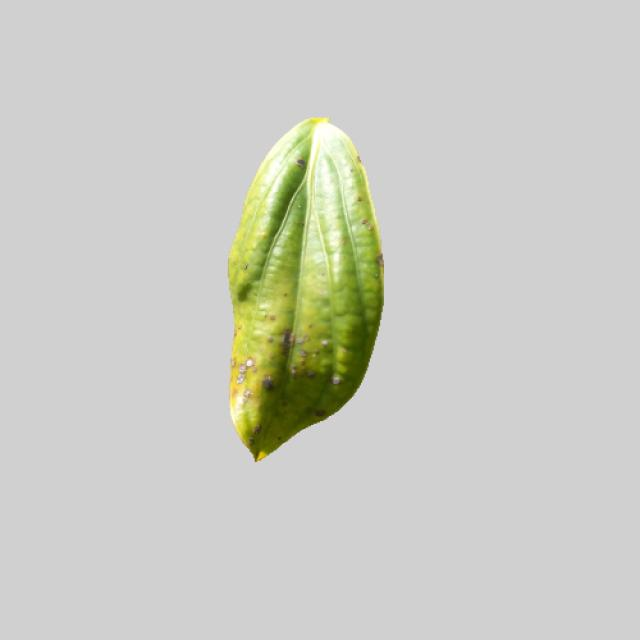yellow-mottle-virus: (222, 116, 386, 463)
